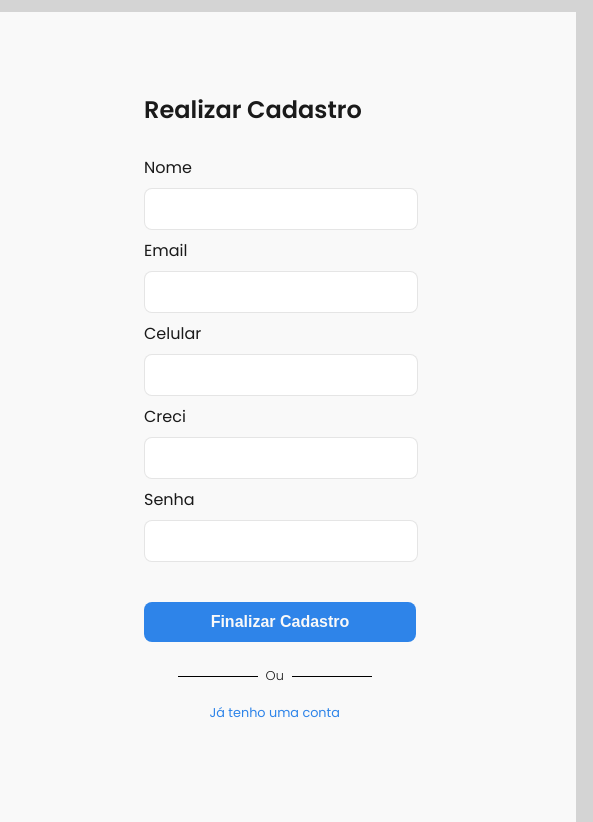
Test: Signup related tests › should not create an user if there is an empty input
Type "John" into the field titled "name".
click(281, 209); type("John")  # box [144,188,418,230]
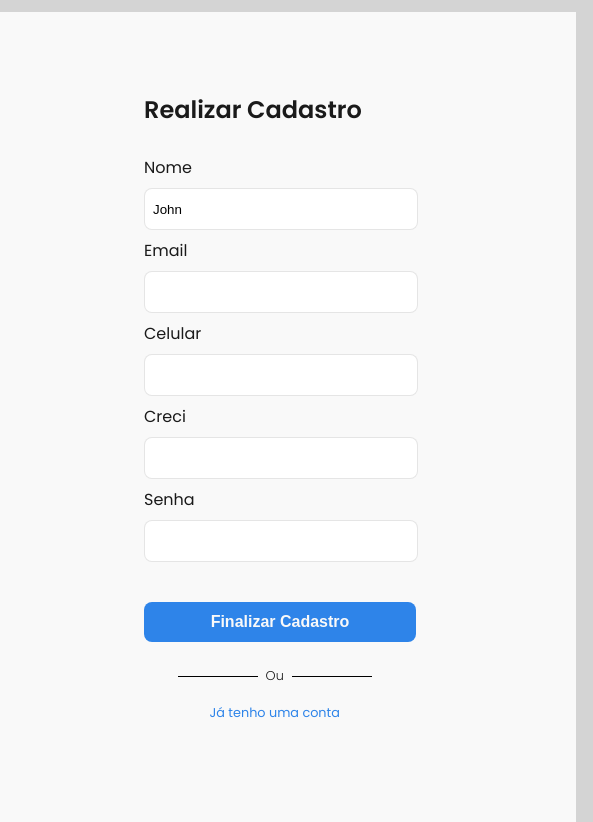
Type "johndoe@gmail.com" into the field titled "email".
click(281, 292); type("johndoe@gmail.com")  # box [144,271,418,313]
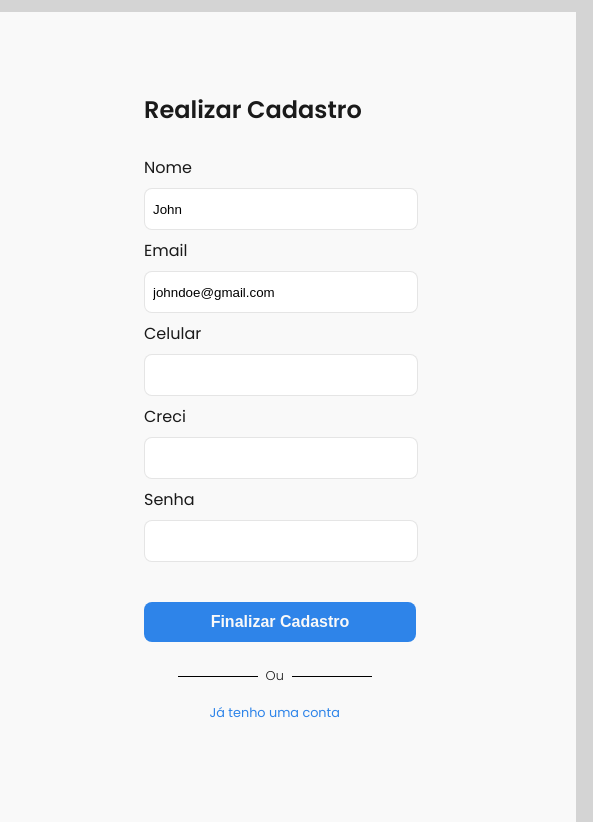
Click the button titled "submit".
click(280, 622)  # box [144,602,416,642]
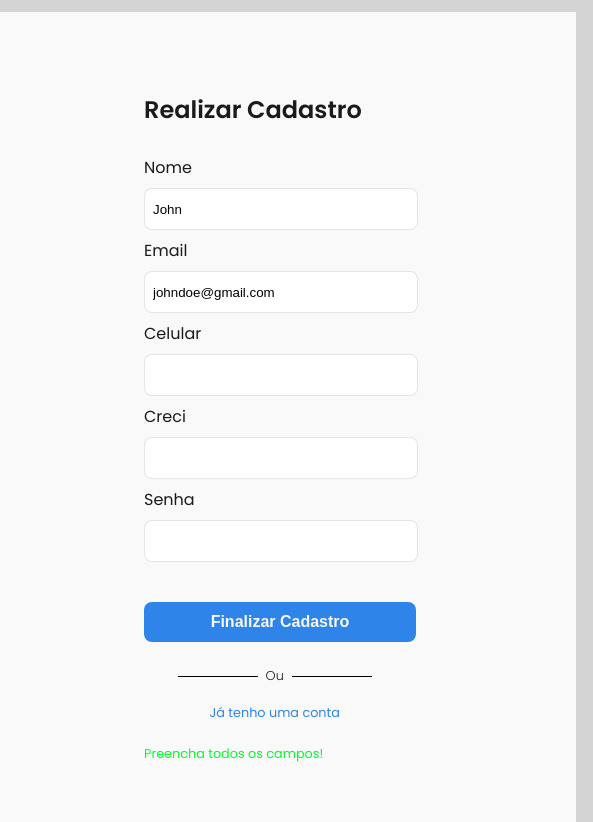
Now the text titled "response-message" reads "Preencha todos os campos!", box [144,745,323,762]
